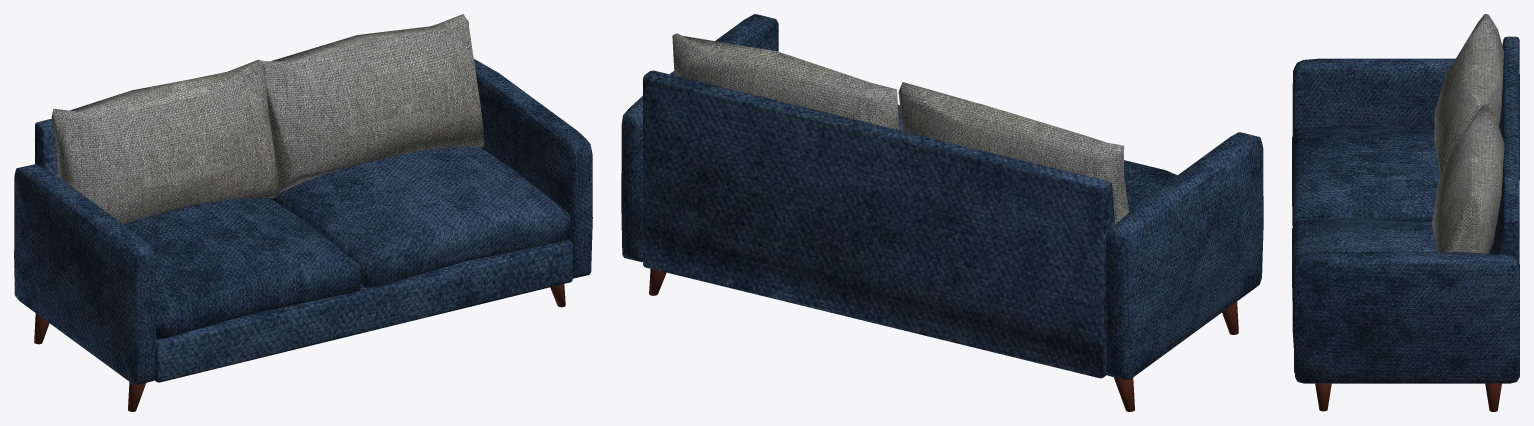
File: round_sofa.dae
The picture shows the model from 3 angles, left to right: view 1: azimuth 30°, elevation 25°; view 2: azimuth 150°, elevation 25°; view 3: azimuth 270°, elevation 25°; orthographic projection. The views are drawn at different scales.
Visible parts, largest first — view 1: Cube.003, Cube.004, Cube.001, Cube.002, Cube.009, Cylinder.004; view 2: Cube.009, Cube.004, Cube.002, Cube.001, Cube.003, Cylinder.006; view 3: Cube.004, Cube.003, Cube.001, Cube.002, Cube.009, Cylinder.006, Cylinder.004.
Boxes of the visible parts, bbox=[...] form: Cube.003: bbox=[123, 147, 570, 339]; Cube.004: bbox=[14, 59, 592, 385]; Cube.001: bbox=[262, 14, 484, 193]; Cube.002: bbox=[51, 59, 279, 224]; Cube.009: bbox=[35, 25, 572, 382]; Cylinder.004: bbox=[128, 284, 565, 411]; Cube.009: bbox=[643, 70, 1115, 378]; Cube.004: bbox=[621, 14, 1263, 380]; Cube.002: bbox=[898, 82, 1128, 224]; Cube.001: bbox=[672, 33, 899, 130]; Cube.003: bbox=[898, 104, 1177, 211]; Cylinder.006: bbox=[649, 269, 1134, 411]; Cube.004: bbox=[1292, 58, 1519, 383]; Cube.003: bbox=[1292, 125, 1489, 300]; Cube.001: bbox=[1432, 104, 1504, 253]; Cube.002: bbox=[1434, 14, 1503, 174]; Cube.009: bbox=[1294, 36, 1519, 373]; Cylinder.006: bbox=[1485, 383, 1501, 411]; Cylinder.004: bbox=[1315, 383, 1331, 411].
Size of the model in its own units: 1.8 by 0.8291 by 0.862.
